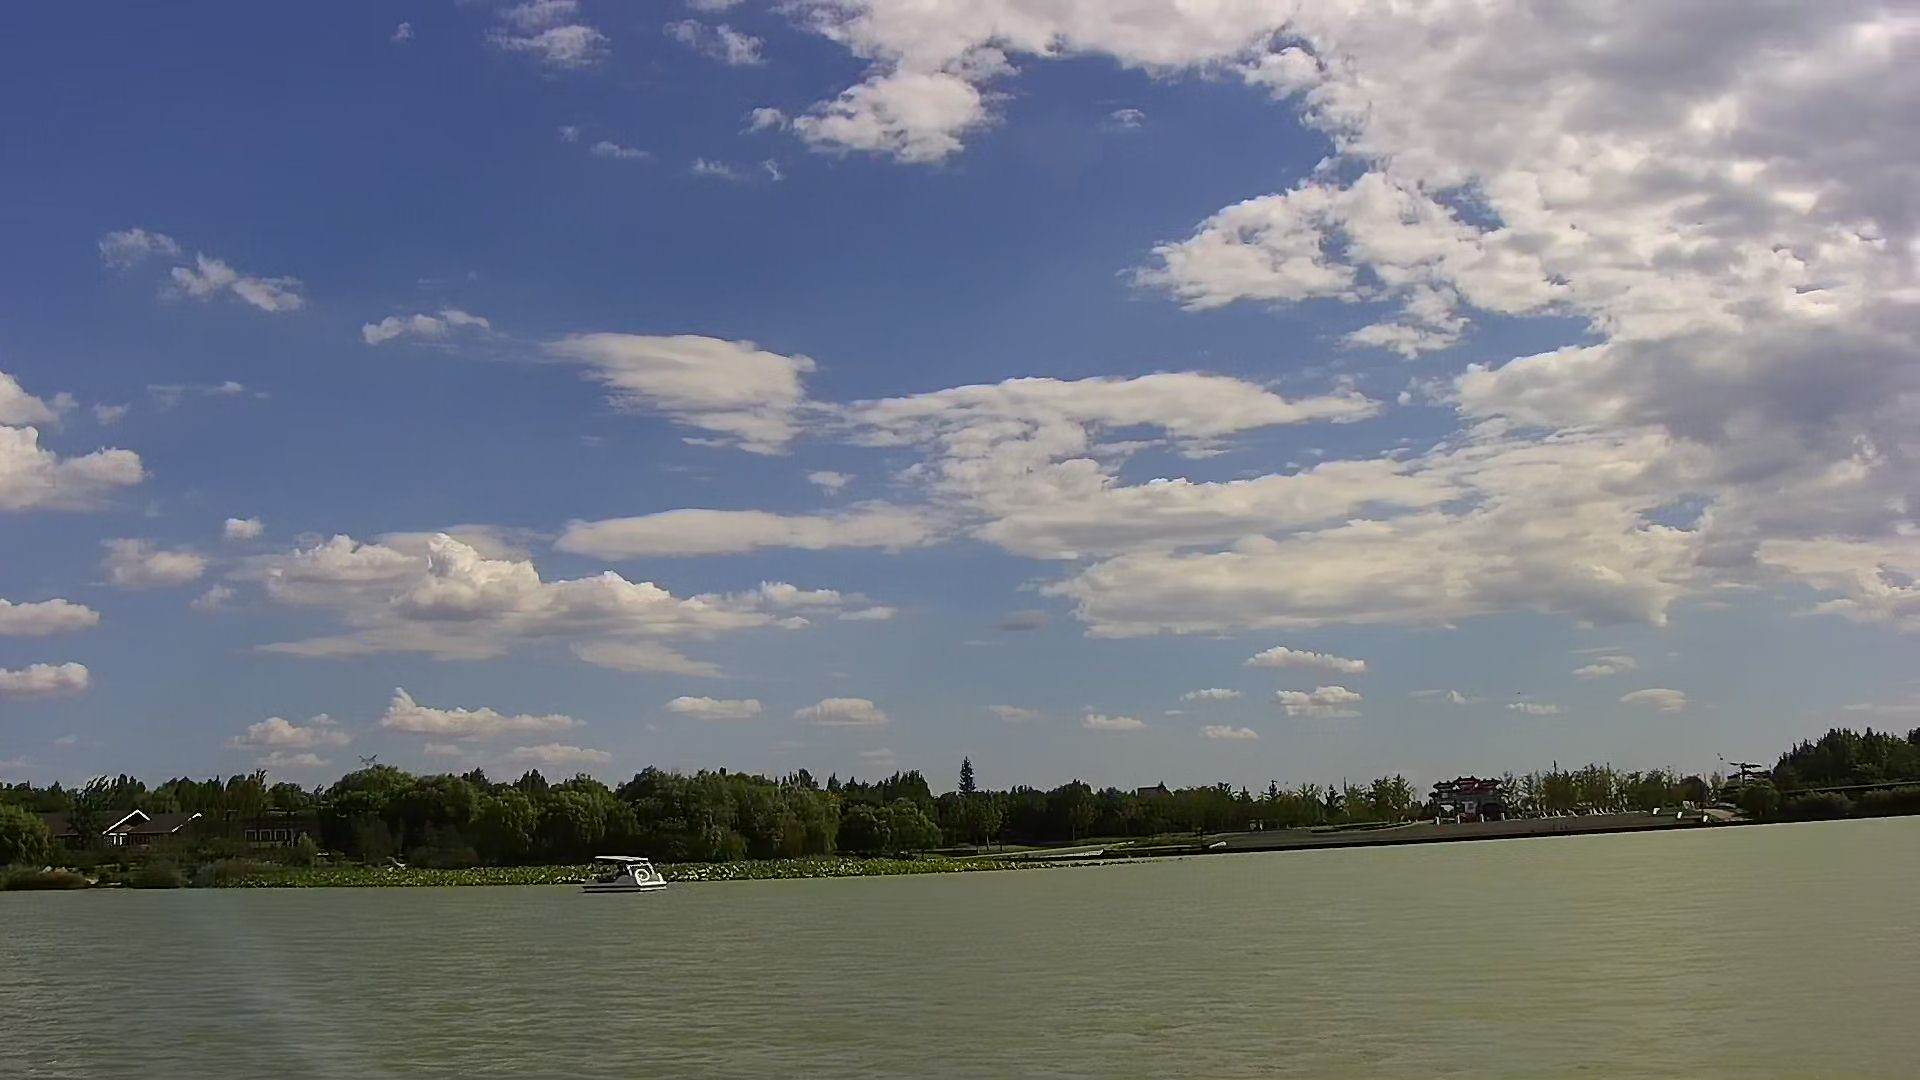boat: (585, 851, 667, 893)
grass: (262, 857, 1073, 884)
